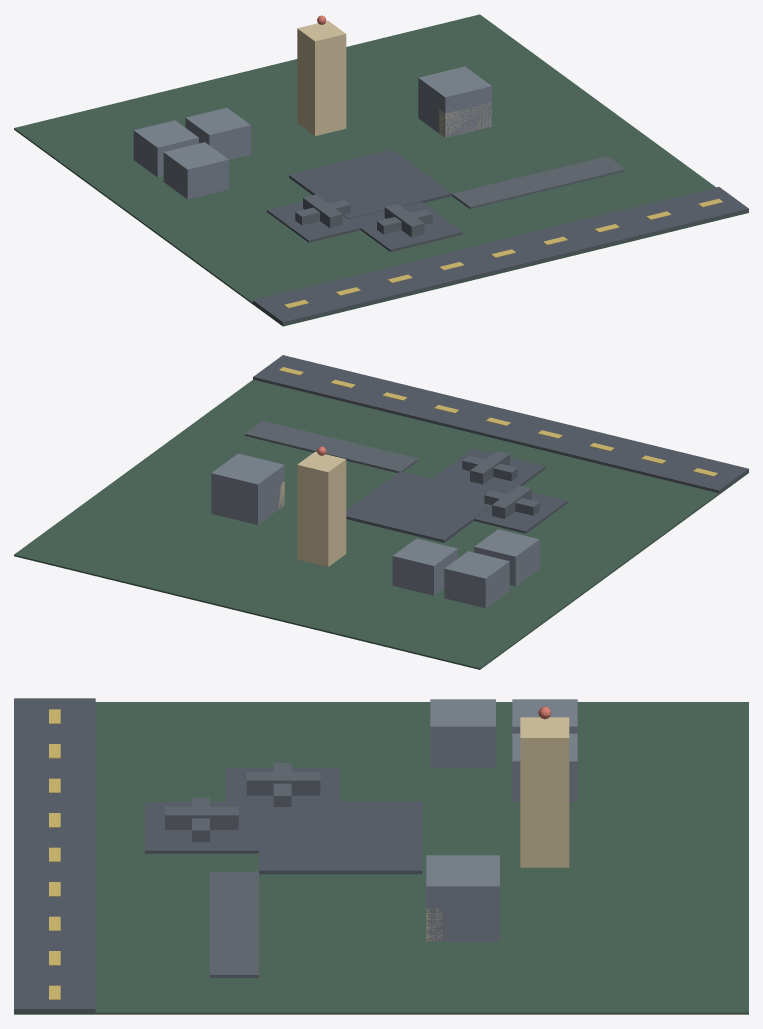
File: stage_09.glb
The picture shows the model from 3 angles, top to bottom: view 1: azimuth 30°, elevation 25°; view 2: azimuth 150°, elevation 25°; view 3: azimuth 270°, elevation 25°; orthographic projection. The views are drawn at different scales.
Parts seen in each view (by area): view 1: geometry_0; view 2: geometry_0; view 3: geometry_0.
Boxes of the visible parts, x1,y1,x2,y2 form: geometry_0: (14, 14, 748, 326); geometry_0: (14, 355, 748, 669); geometry_0: (14, 698, 748, 1014).
Bounding box in the file's own units: 9 × 2.06 × 9.
